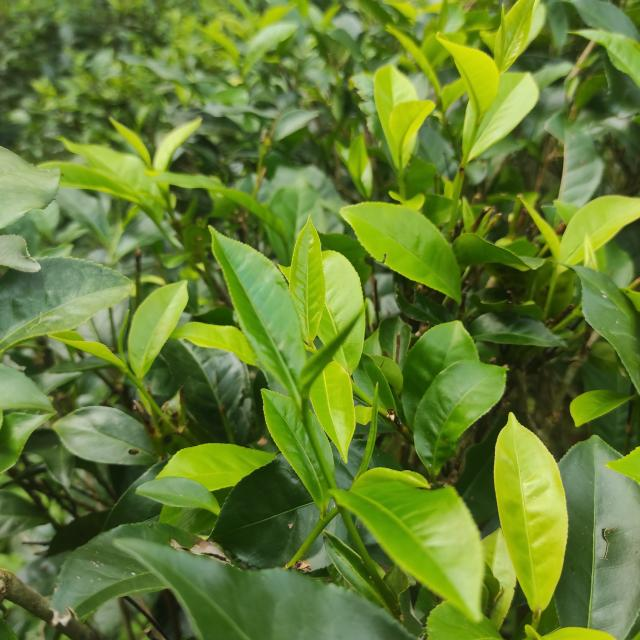unopened_leaf: (288, 290, 380, 398), (352, 374, 386, 484), (111, 301, 136, 367)
